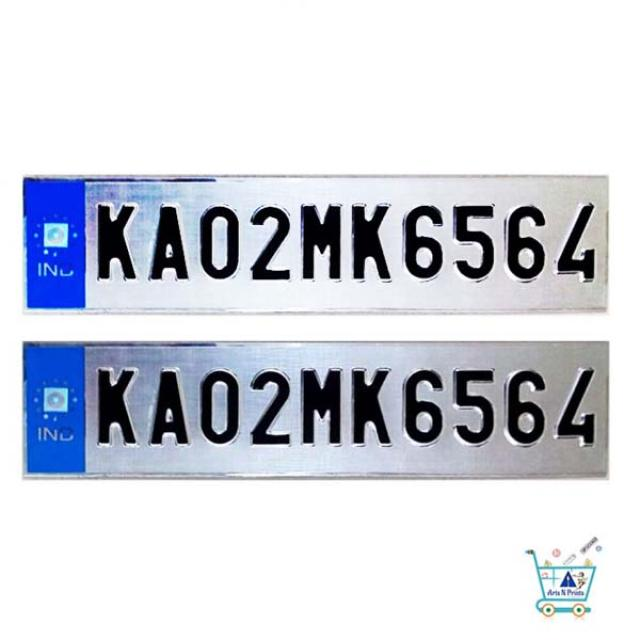plate: (21, 170, 614, 317), (22, 338, 614, 483)
